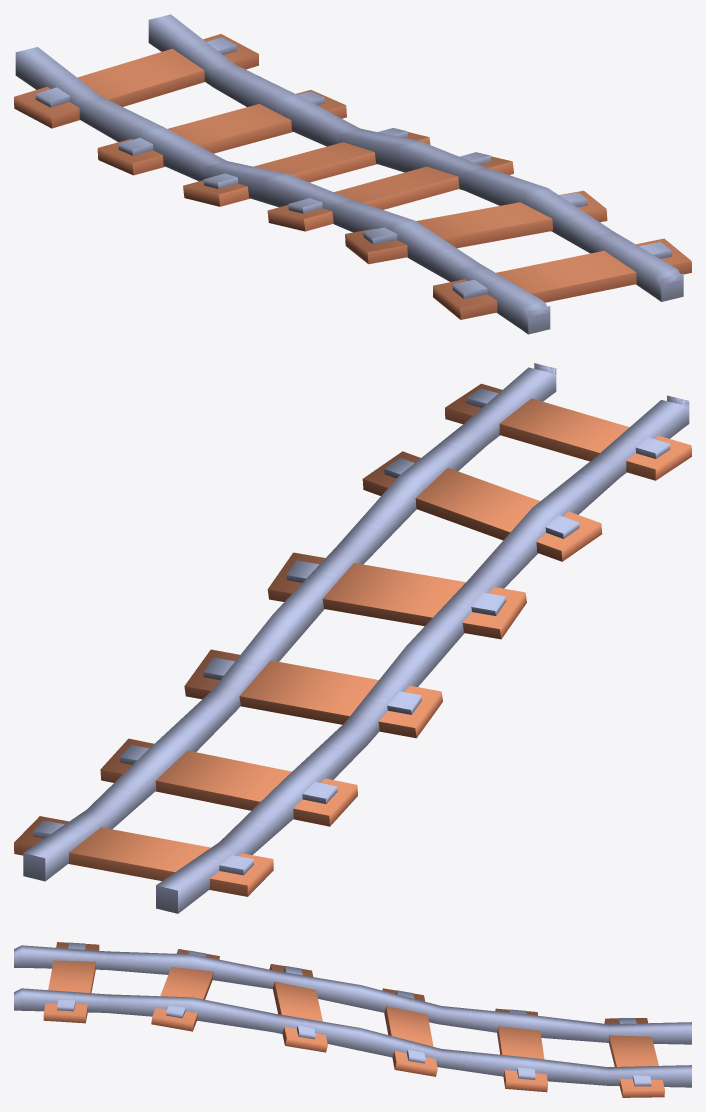
File: kenney-train-railroad-damaged-straight-hill-complete-half.glb
3 renders of one model, top to bottom at view 1: azimuth 30°, elevation 25°; view 2: azimuth 150°, elevation 25°; view 3: azimuth 270°, elevation 25°, orthographic. The views are drawn at different scales.
Visible parts, largest first — view 1: railroad-damaged-straight-hill-complete-half; view 2: railroad-damaged-straight-hill-complete-half; view 3: railroad-damaged-straight-hill-complete-half.
Boxes of the visible parts, x1,y1,x2,y2 form: railroad-damaged-straight-hill-complete-half: [14, 14, 691, 334]; railroad-damaged-straight-hill-complete-half: [14, 363, 691, 913]; railroad-damaged-straight-hill-complete-half: [14, 942, 691, 1097].
Size of the model in its own units: 1.03 by 0.6006 by 4.
1 material, 1 textured.
